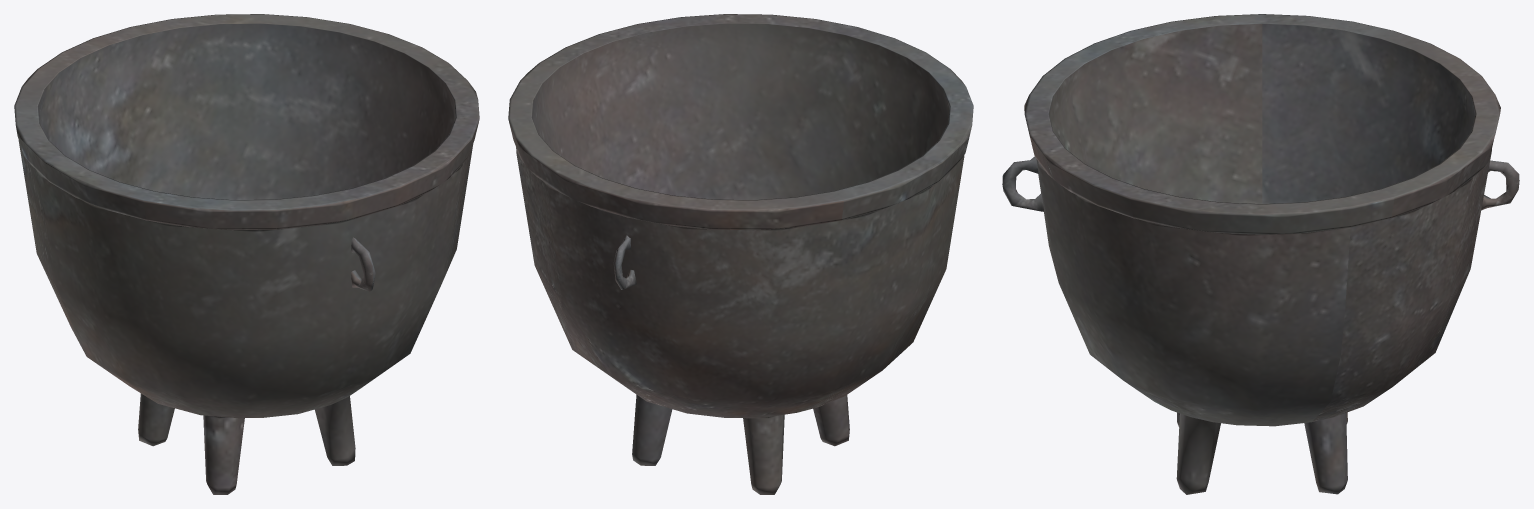
File: SM_Cauldron.fbx
3 views of the same model, side by side, from view 1: azimuth 30°, elevation 25°; view 2: azimuth 150°, elevation 25°; view 3: azimuth 270°, elevation 25° (orthographic).
Visible parts, largest first — view 1: SM_Cauldron_LOD0; view 2: SM_Cauldron_LOD0; view 3: SM_Cauldron_LOD0.
Part boxes in pixels (x1=…): SM_Cauldron_LOD0: x1=14, y1=14, x2=479, y2=494; SM_Cauldron_LOD0: x1=508, y1=14, x2=973, y2=494; SM_Cauldron_LOD0: x1=1002, y1=14, x2=1519, y2=494.
Size of the model in its own units: 67.93 by 73.74 by 54.41.
Materials: 1 (1 with a texture image).
